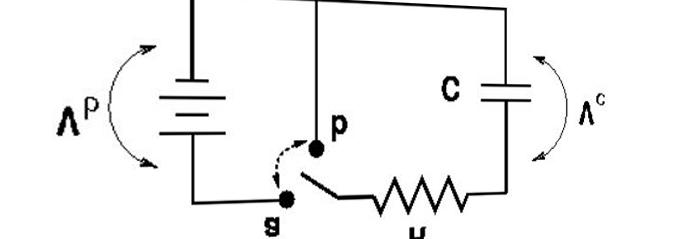Battery: (155, 45, 243, 153)
